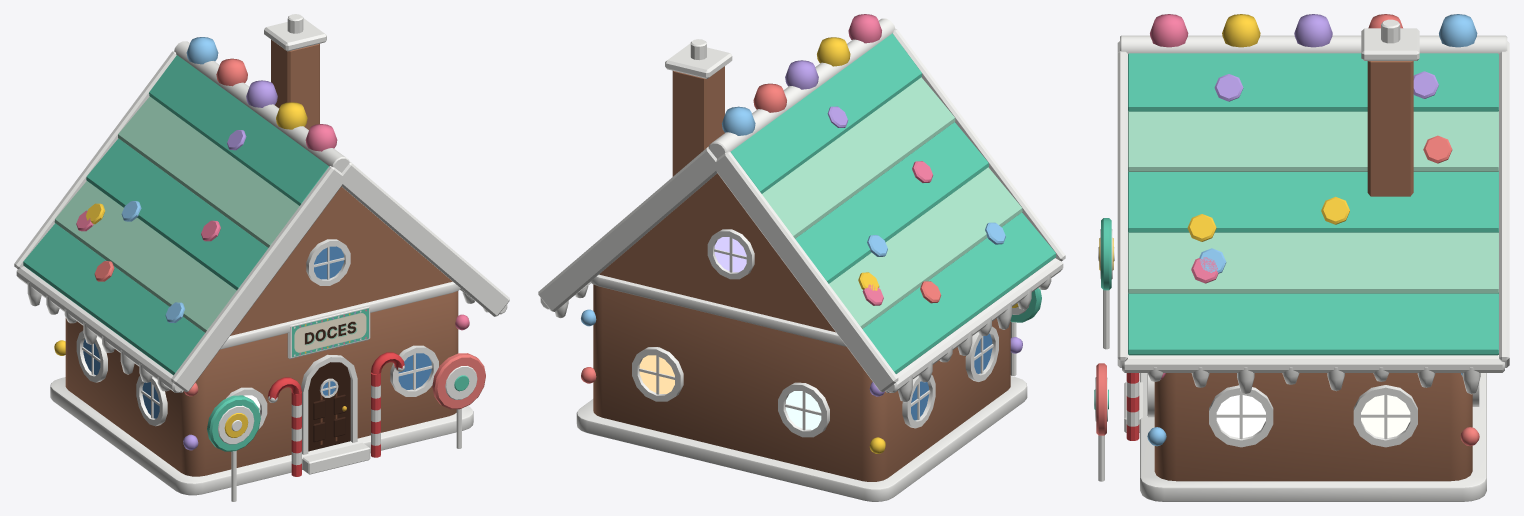
File: casa_doce_menta.glb
3 views of the same model, side by side, from view 1: azimuth 30°, elevation 25°; view 2: azimuth 150°, elevation 25°; view 3: azimuth 270°, elevation 25° (orthographic). The views are drawn at different scales.
Visible parts, largest first — view 1: casa_doce_menta; view 2: casa_doce_menta; view 3: casa_doce_menta.
Part boxes in pixels (left/top/right/bottom): casa_doce_menta: left=14, top=14, right=509, bottom=501; casa_doce_menta: left=538, top=14, right=1065, bottom=501; casa_doce_menta: left=1094, top=14, right=1509, bottom=501.
Size of the model in its own units: 9.79 by 9.87 by 8.62.
7 materials, 2 textured.
